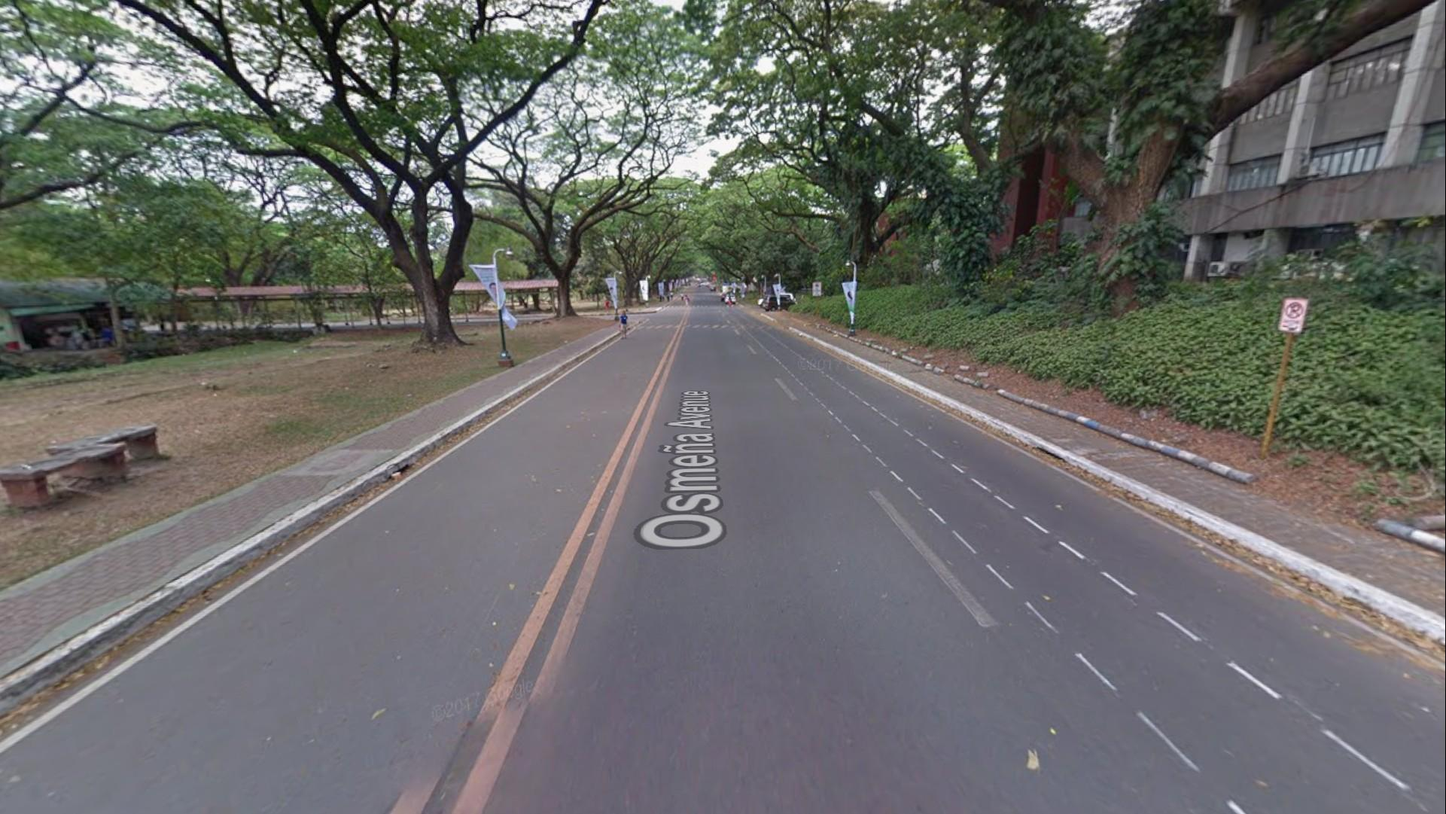pedestrian: (618, 309, 629, 341), (726, 291, 734, 308), (603, 297, 610, 315), (684, 295, 690, 308), (666, 294, 671, 303), (680, 292, 684, 302), (670, 291, 674, 301)
